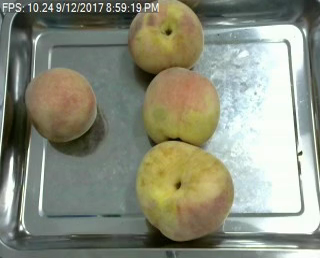Peach: (134, 141, 234, 242), (142, 65, 221, 142), (24, 67, 98, 143), (129, 0, 206, 72)
